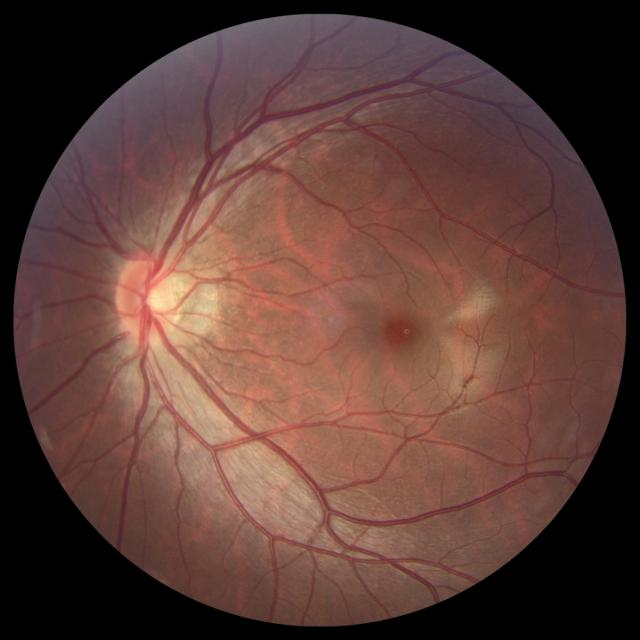OC: (140, 286, 166, 316)
OD: (117, 256, 179, 344)
